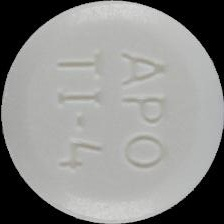60429-242: (0, 0, 224, 224)
